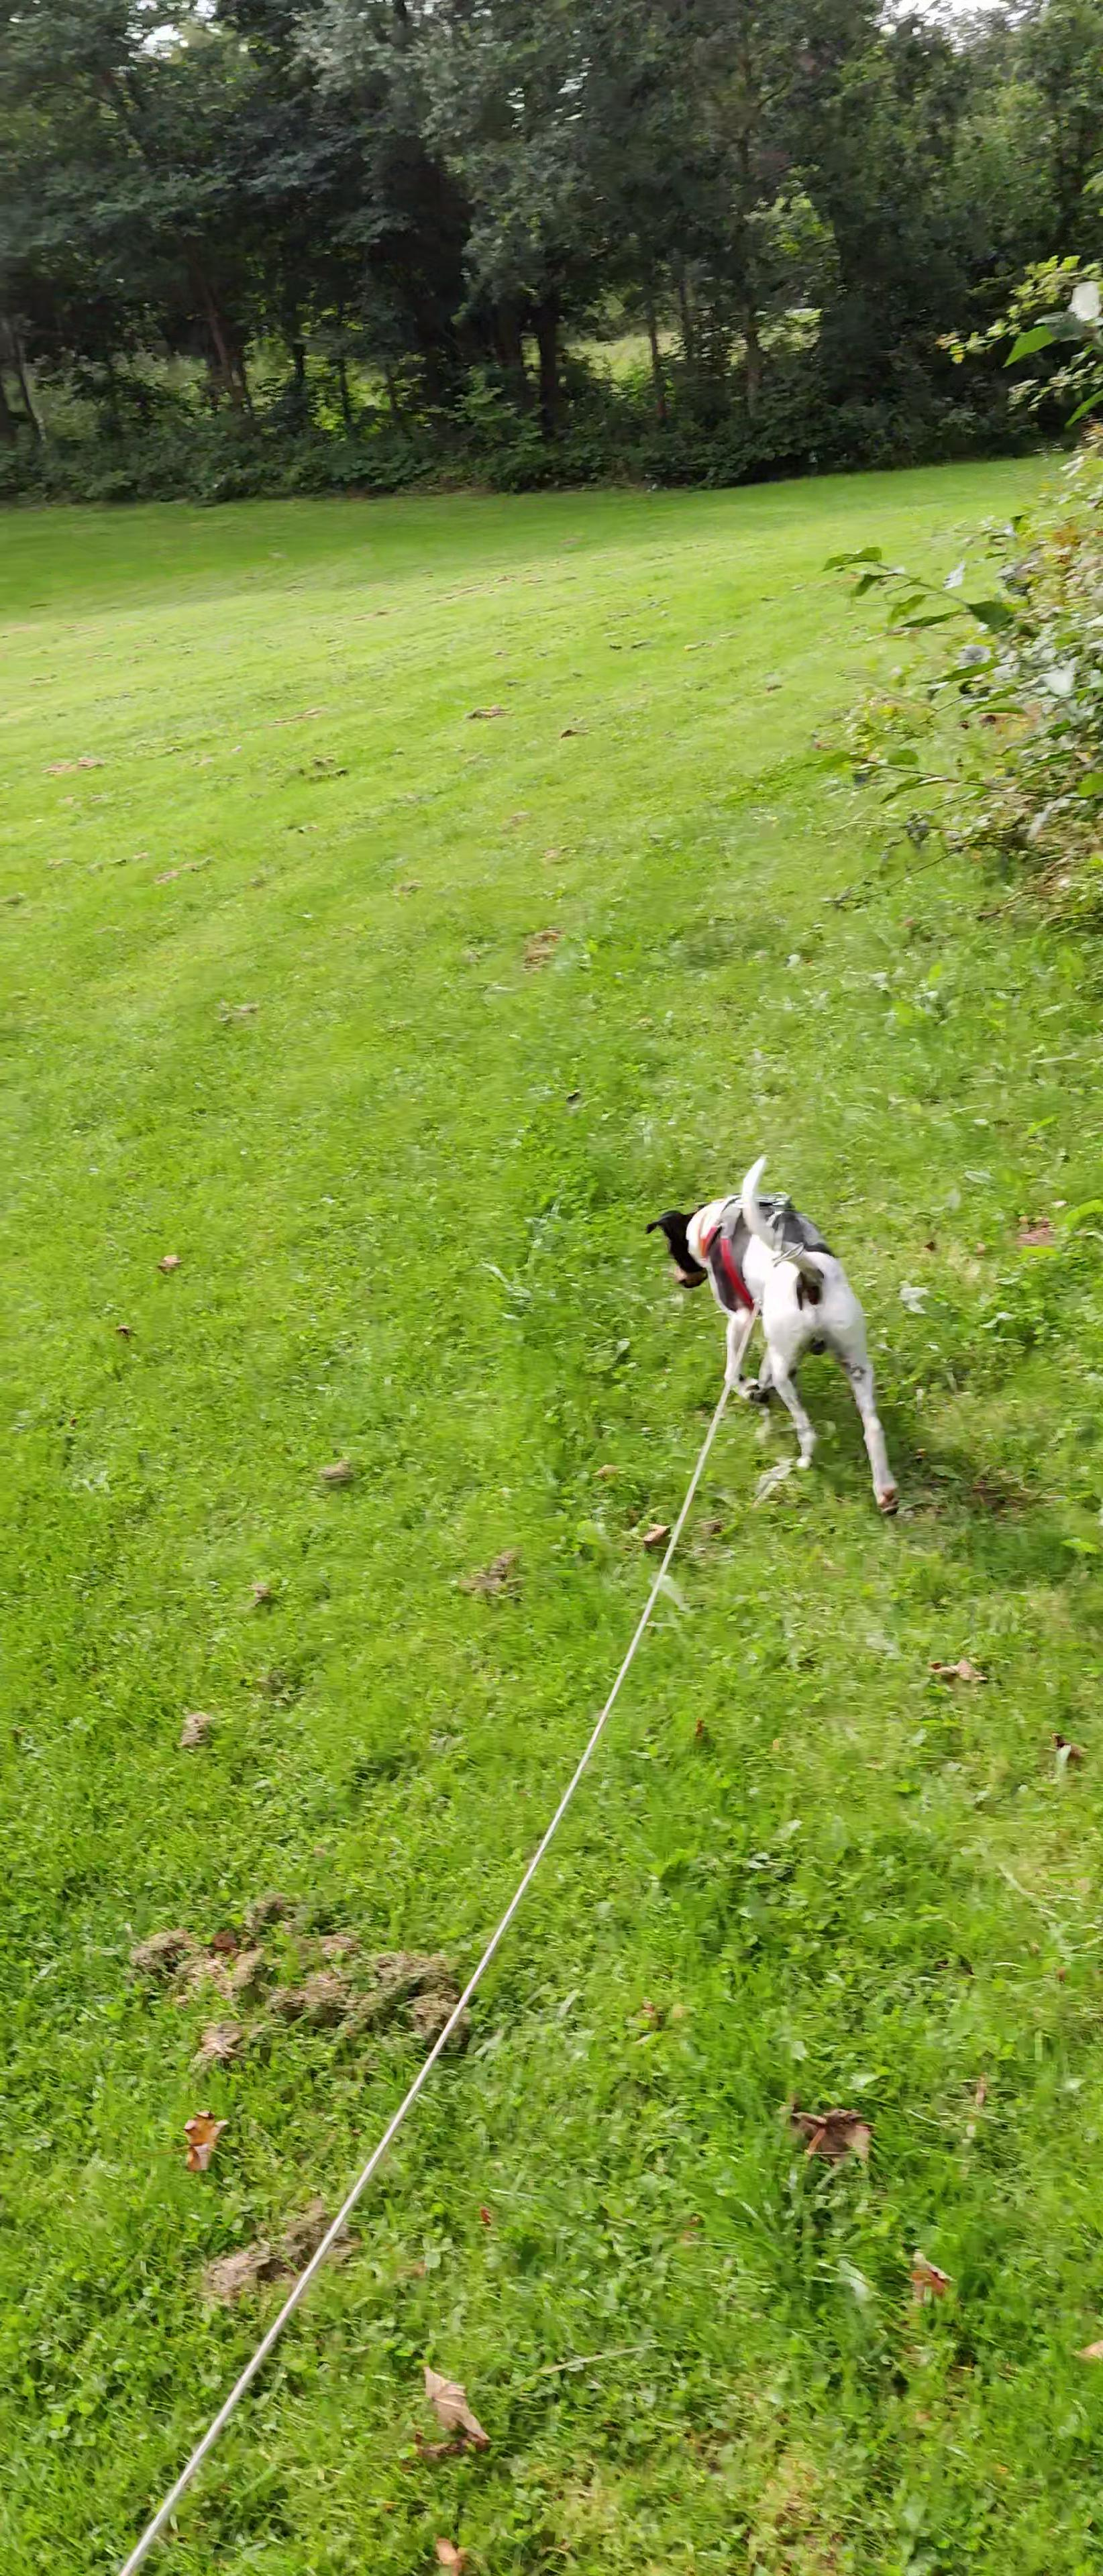Dog: (621, 1135, 924, 1525)
